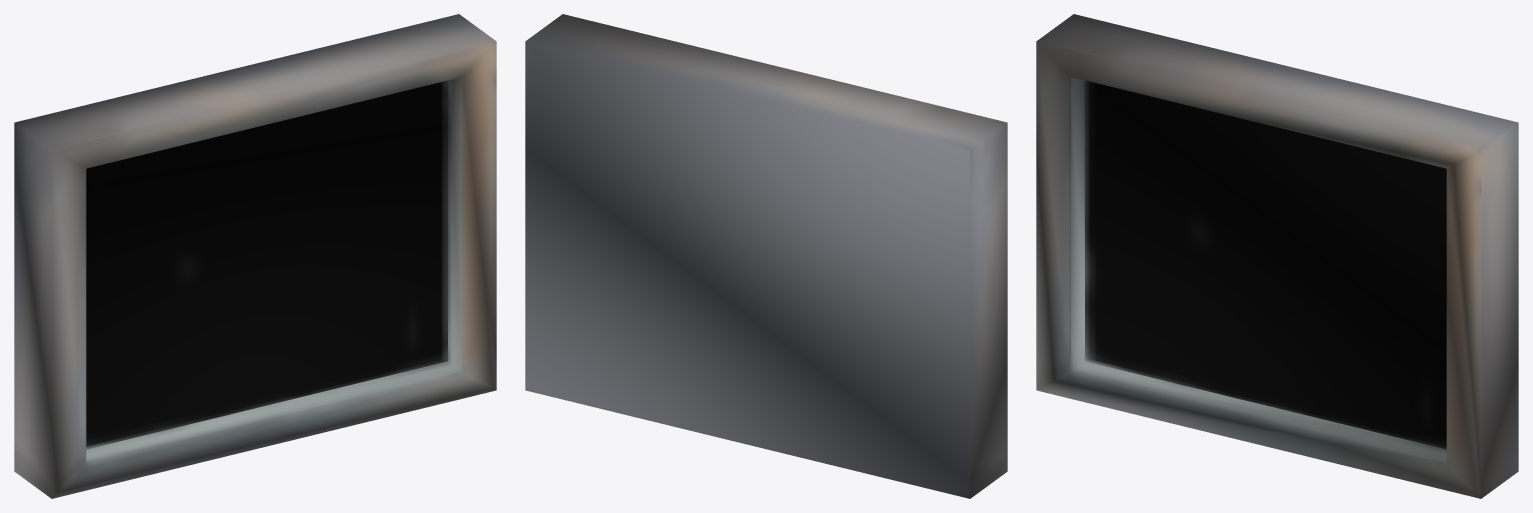
The model's file is Television.fbx.
The picture shows the model from 3 angles, left to right: view 1: azimuth 30°, elevation 25°; view 2: azimuth 150°, elevation 25°; view 3: azimuth 330°, elevation 25°; orthographic projection.
Visible parts, largest first — view 1: Cube.009; view 2: Cube.009; view 3: Cube.009.
Part boxes in pixels (x1,y1,x2,y2): Cube.009: (14,14,496,498); Cube.009: (525,14,1007,498); Cube.009: (1036,14,1518,498).
Bounding box in the file's own units: 100 × 74.98 × 14.6.
Materials: 1 (1 with a texture image).
